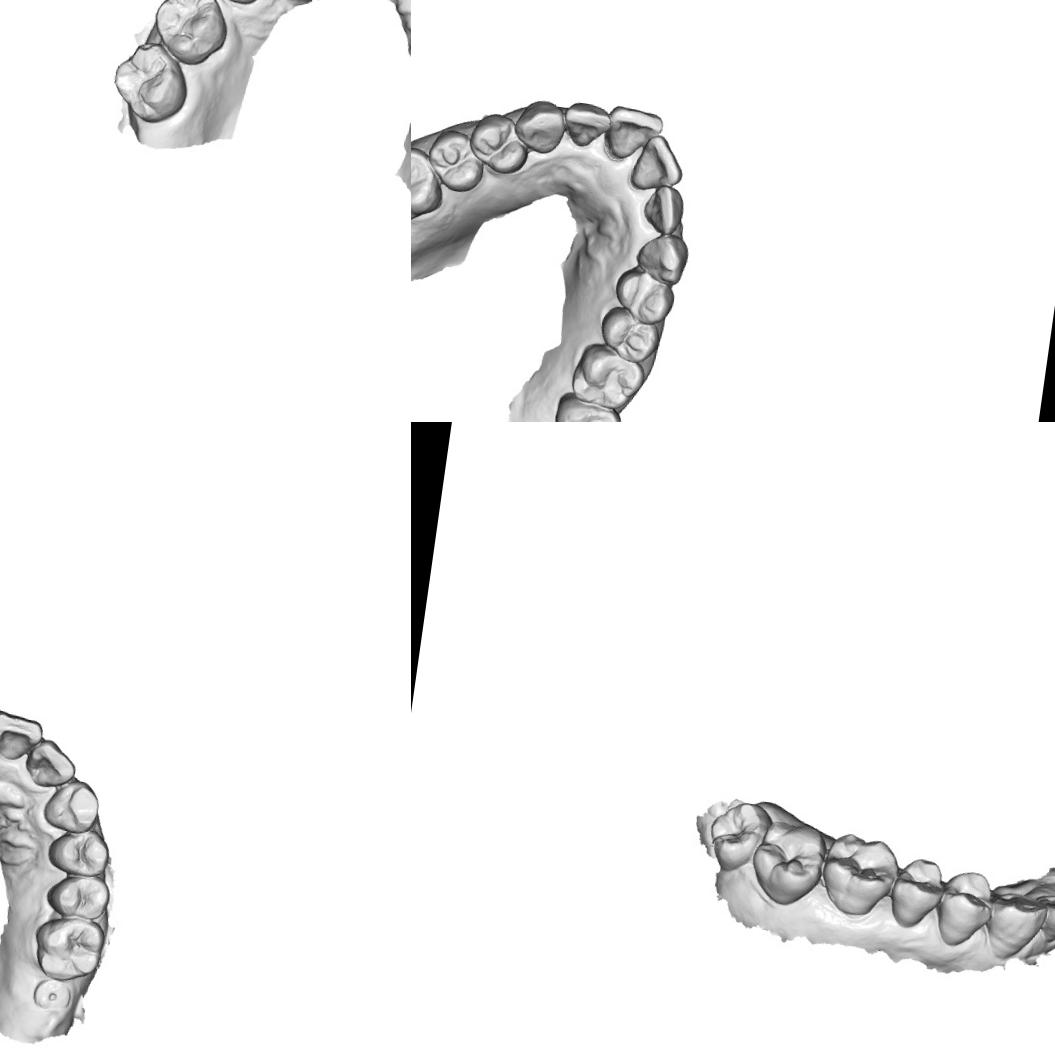canine: (982, 890, 1050, 966), (41, 776, 102, 836), (632, 228, 692, 287), (510, 95, 568, 156)
implant: (31, 976, 74, 1014)
incisor: (626, 131, 689, 197), (601, 102, 666, 165), (22, 736, 80, 792), (560, 99, 614, 152), (639, 182, 688, 238), (0, 707, 46, 766), (1033, 884, 1055, 949)
molar: (105, 35, 196, 128), (816, 828, 902, 922), (746, 816, 831, 911), (145, 0, 235, 71), (568, 339, 648, 413), (704, 796, 775, 877), (30, 912, 108, 985), (411, 141, 450, 227), (549, 388, 626, 422)
premolar: (933, 866, 998, 950), (884, 854, 948, 933), (423, 126, 489, 196), (466, 110, 534, 177), (610, 264, 680, 329), (596, 302, 665, 366), (44, 823, 112, 880), (42, 870, 112, 923)
